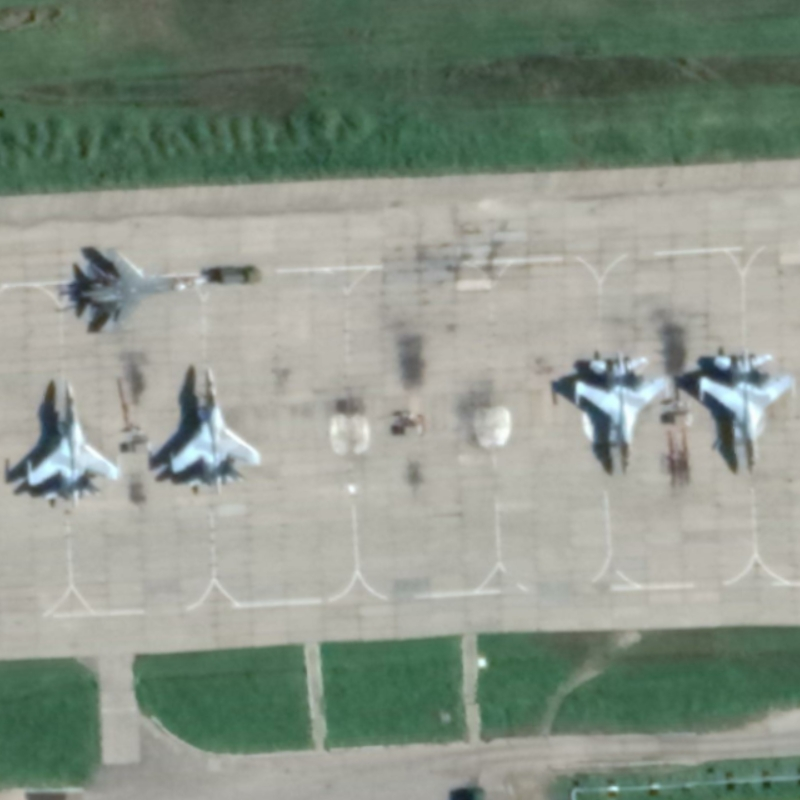A1: (71, 241, 216, 337), (571, 349, 675, 477), (695, 347, 797, 476), (164, 365, 264, 496), (21, 378, 122, 505)
